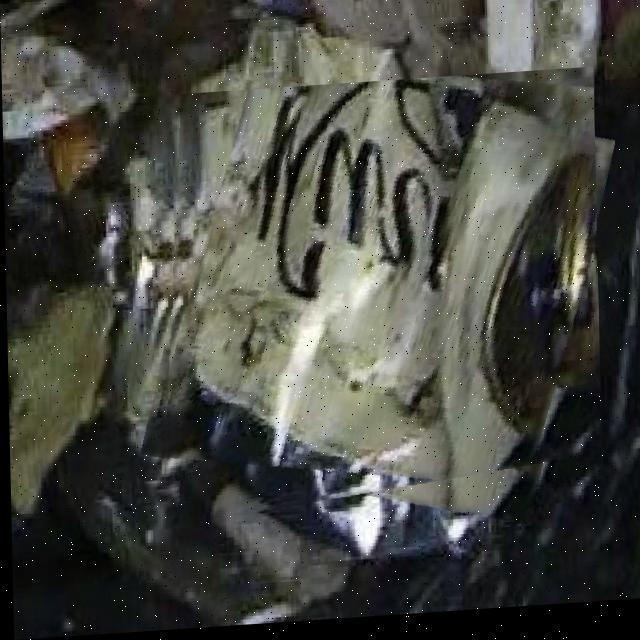litter: (152, 74, 600, 529)
